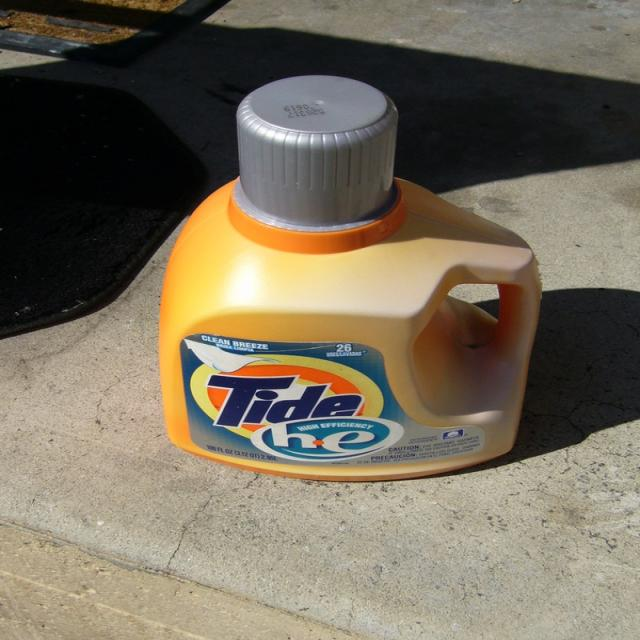container: (160, 76, 540, 480)
